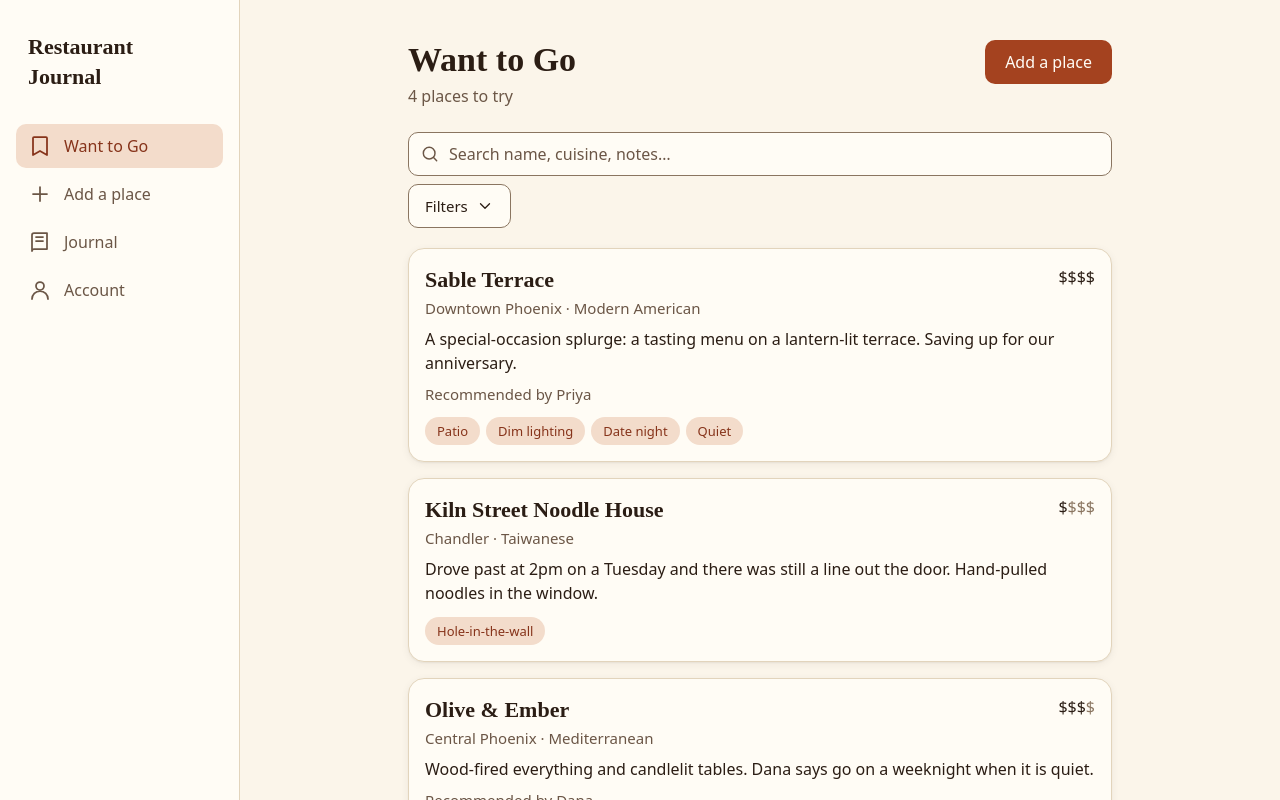
Want to Go search and filters › shows a "no matches" state that can be cleared, unlike the empty state
Expected: the text "4 places to try" is shown, [408,85,513,107]
Type "zzzz" into the search field named "Search your saved places" at (760, 154), box [408,132,1112,176]
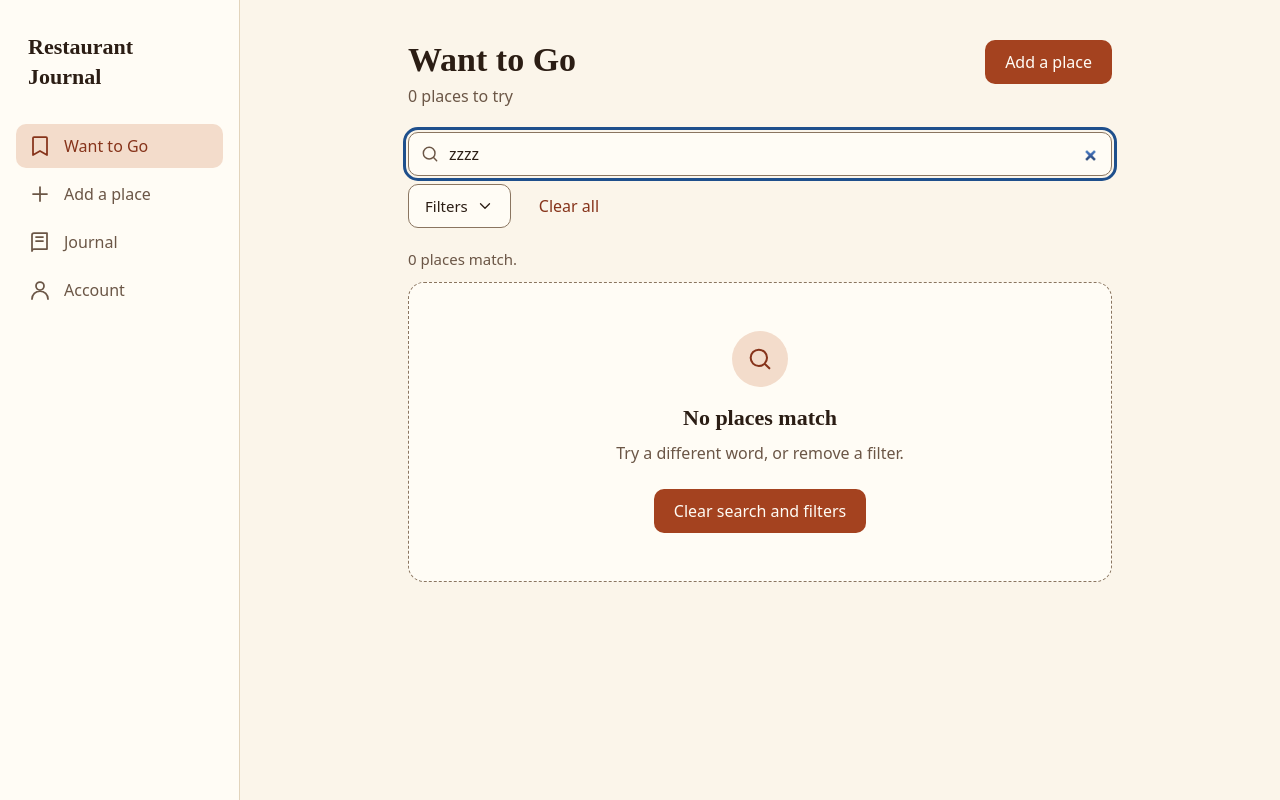
Result: the heading "No places match" is shown at [683,403,837,433]
Result: the text "0 places match." is shown at [408,249,517,269]
Click the button "Clear search and filters" at (760, 511), box [654,489,866,533]
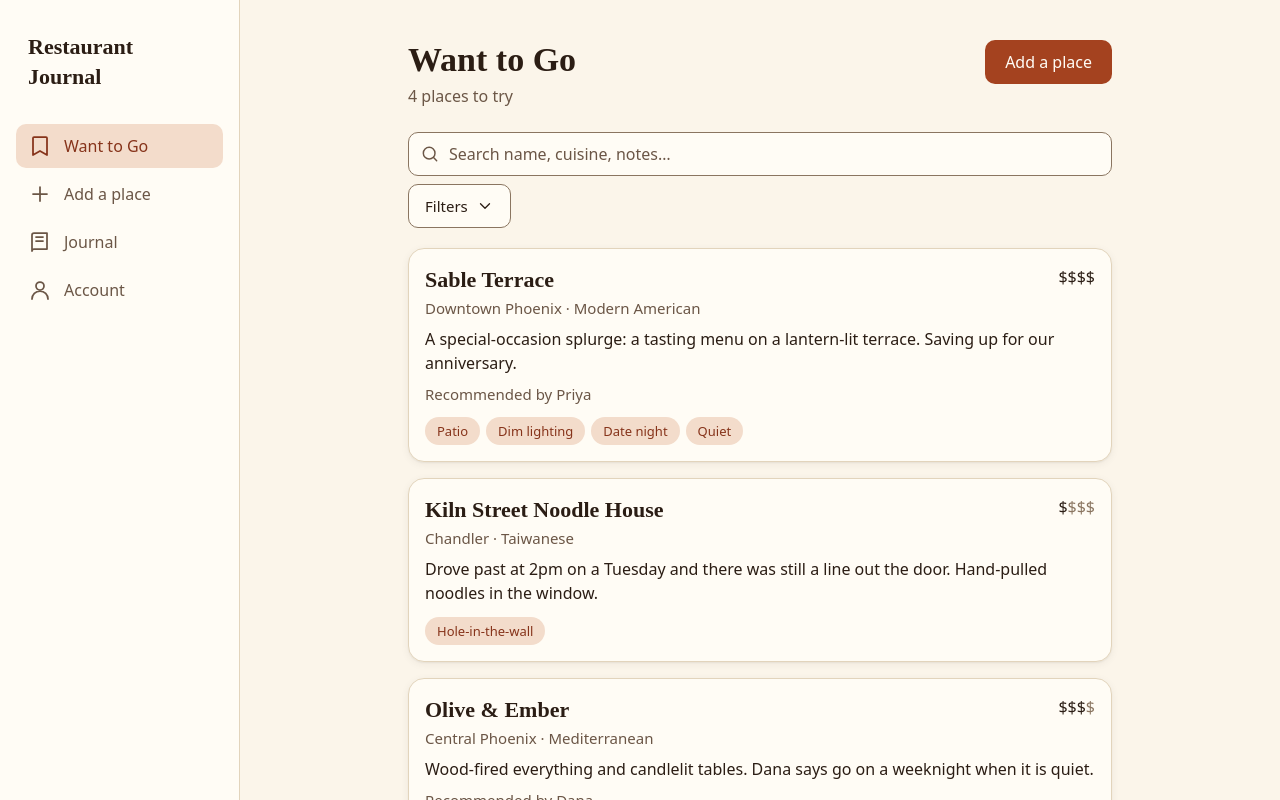
Result: the search field named "Search your saved places" is empty at [408,132,1112,176]
